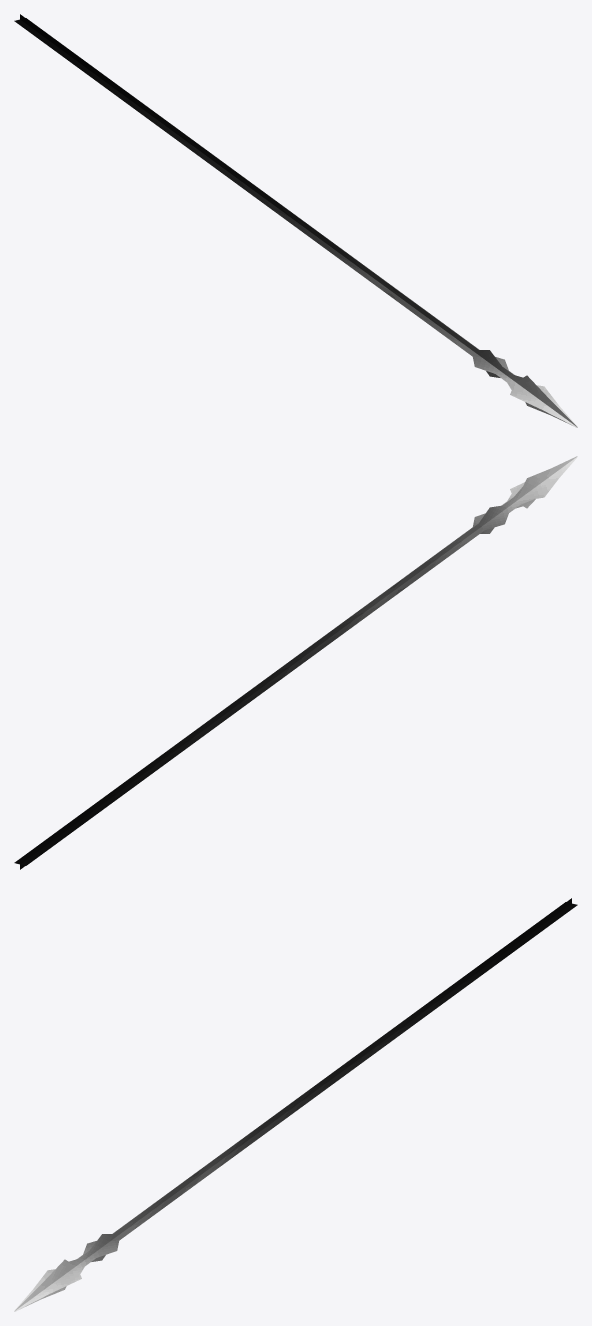
File: proj_flore_ult.fbx
3 views of the same model, one above another, from view 1: azimuth 30°, elevation 25°; view 2: azimuth 150°, elevation 25°; view 3: azimuth 330°, elevation 25° (orthographic).
Visible parts, largest first — view 1: mesh_arrow; view 2: mesh_arrow; view 3: mesh_arrow.
Boxes of the visible parts, bbox=[...] form: mesh_arrow: bbox=[14, 14, 577, 427]; mesh_arrow: bbox=[14, 456, 577, 869]; mesh_arrow: bbox=[14, 898, 577, 1311].
Bounding box in the file's own units: 0.1093 × 0.0921 × 3.05.
